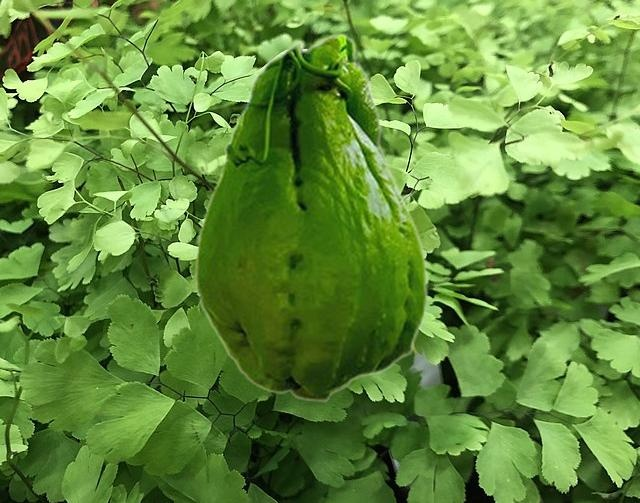sayote: (194, 32, 428, 402)
